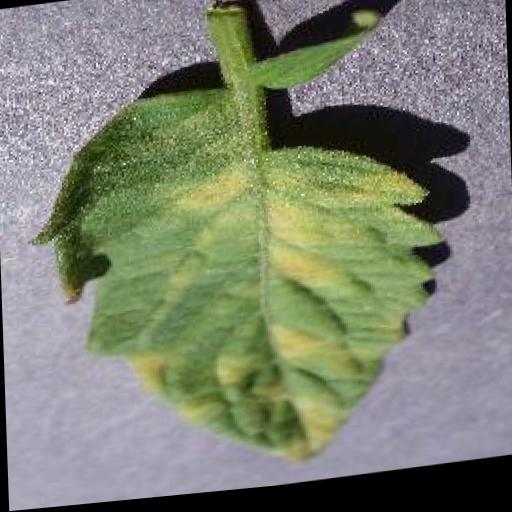Leaf Mold: (24, 66, 450, 500)
